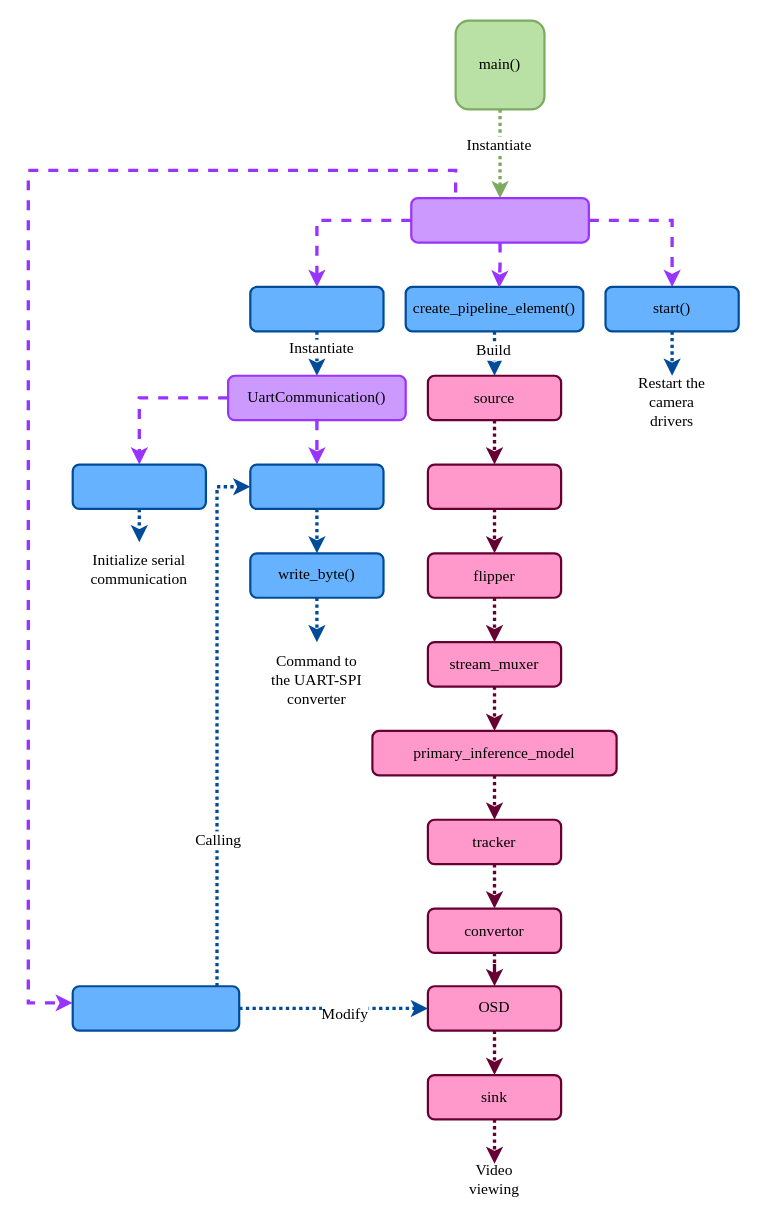
This 759x1218 diagram has some shape labels left out. Here are the shapes that lost their labels. From the top down, the centre of each, then its label:
At point (499, 219): "PipelineManager()".
At point (316, 308): "init()".
At point (138, 486): "init_serial()".
At point (316, 486): "send_uart()".
At point (494, 486): "caps_filter".
At point (155, 1008): "osd_data_modifier()".
